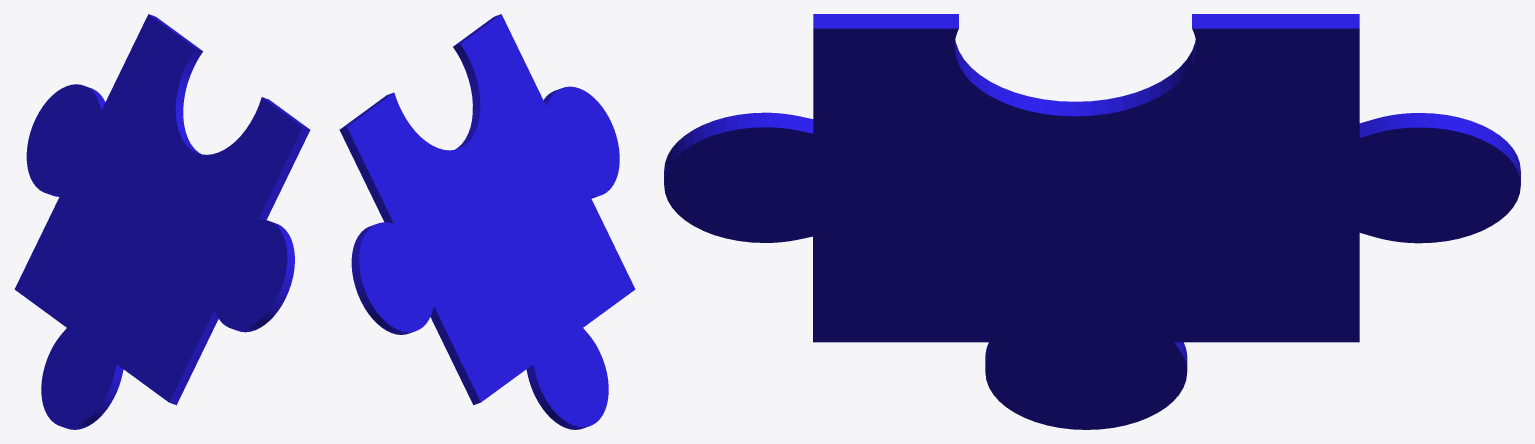
Rendered from H-piece-blu.fbx.
The picture shows the model from 3 angles, left to right: view 1: azimuth 30°, elevation 25°; view 2: azimuth 150°, elevation 25°; view 3: azimuth 270°, elevation 25°; orthographic projection. The views are drawn at different scales.
Visible parts, largest first — view 1: Curve.073; view 2: Curve.073; view 3: Curve.073.
Boxes of the visible parts, x1,y1,x2,y2 form: Curve.073: (14,14,310,429); Curve.073: (339,14,635,429); Curve.073: (664,14,1520,429).
Bounding box in the file's own units: 48.9 × 82.31 × 115.
